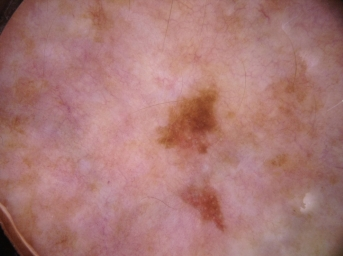melanoma: (159, 97, 216, 151), (182, 191, 229, 231)
